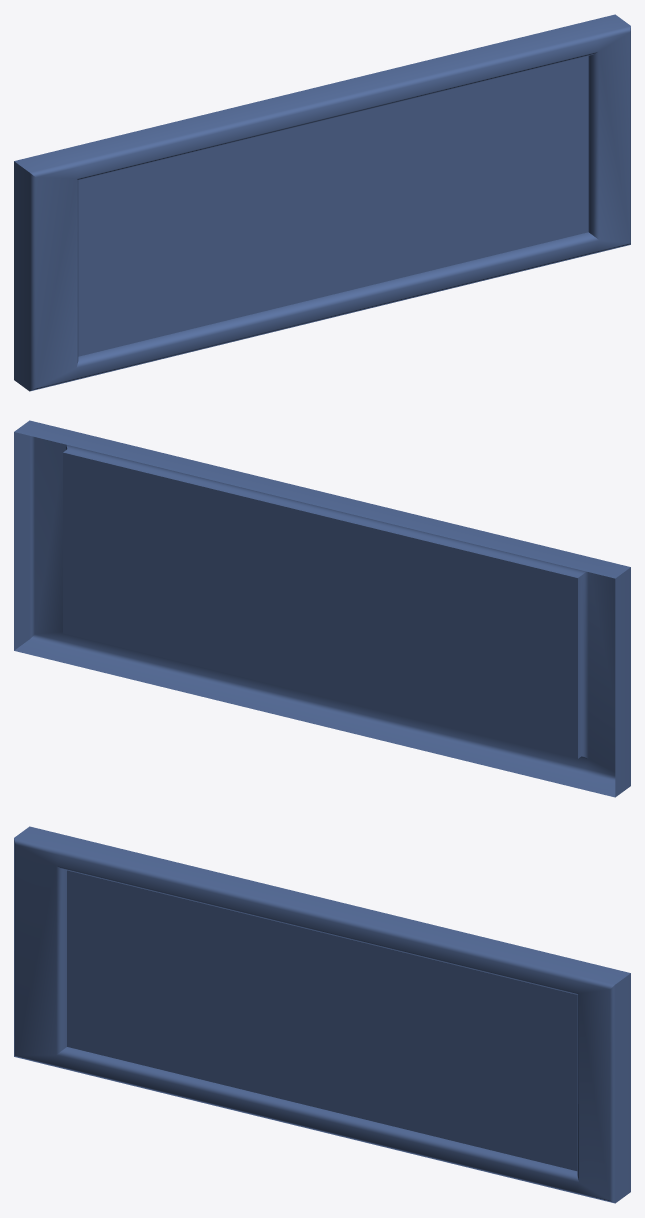
The model's file is S_b02_windows_02_trim_half.fbx.
3 renders of one model, top to bottom at view 1: azimuth 30°, elevation 25°; view 2: azimuth 150°, elevation 25°; view 3: azimuth 330°, elevation 25°, orthographic.
Parts seen in each view (by area): view 1: b02_windows_02_trim_half; view 2: b02_windows_02_trim_half; view 3: b02_windows_02_trim_half.
Part boxes in pixels (x1,y1,x2,y2): b02_windows_02_trim_half: (14,14,630,391); b02_windows_02_trim_half: (14,420,630,797); b02_windows_02_trim_half: (14,826,630,1203).
Bounding box in the file's own units: 200 × 69.58 × 10.35.
